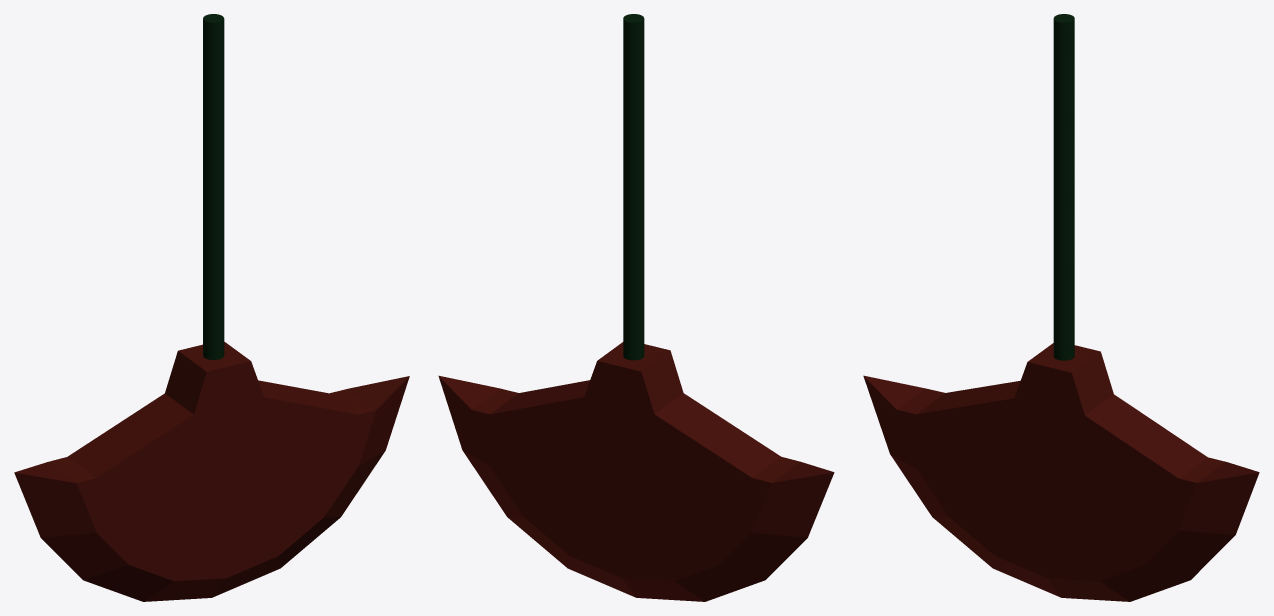
The model's file is axe_scaled.FBX.
3 renders of one model, left to right at view 1: azimuth 30°, elevation 25°; view 2: azimuth 150°, elevation 25°; view 3: azimuth 330°, elevation 25°, orthographic.
Parts seen in each view (by area): view 1: axe, Cylinder001; view 2: axe, Cylinder001; view 3: axe, Cylinder001.
Part boxes in pixels (box(x1,y1,x2,y2)): axe: box(14, 342, 409, 601); Cylinder001: box(203, 14, 224, 359); axe: box(438, 342, 834, 601); Cylinder001: box(623, 14, 644, 360); axe: box(863, 343, 1259, 601); Cylinder001: box(1053, 14, 1074, 360).
Size of the model in its own units: 0.0216 by 0.00275 by 0.0303.
